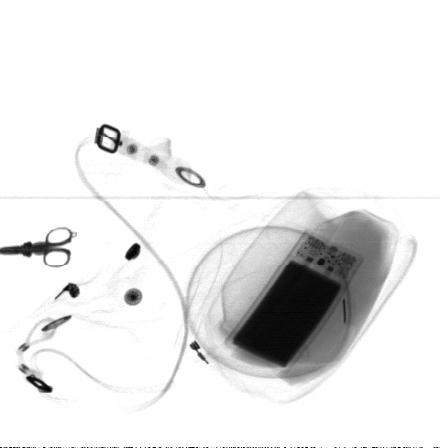Powerbank: (222, 226, 369, 376)
Scissors: (0, 226, 75, 271)
